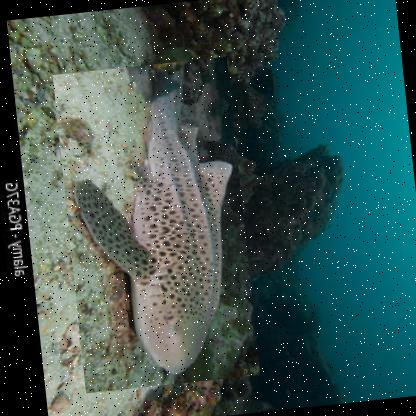zebra_shark: (50, 55, 259, 393)
